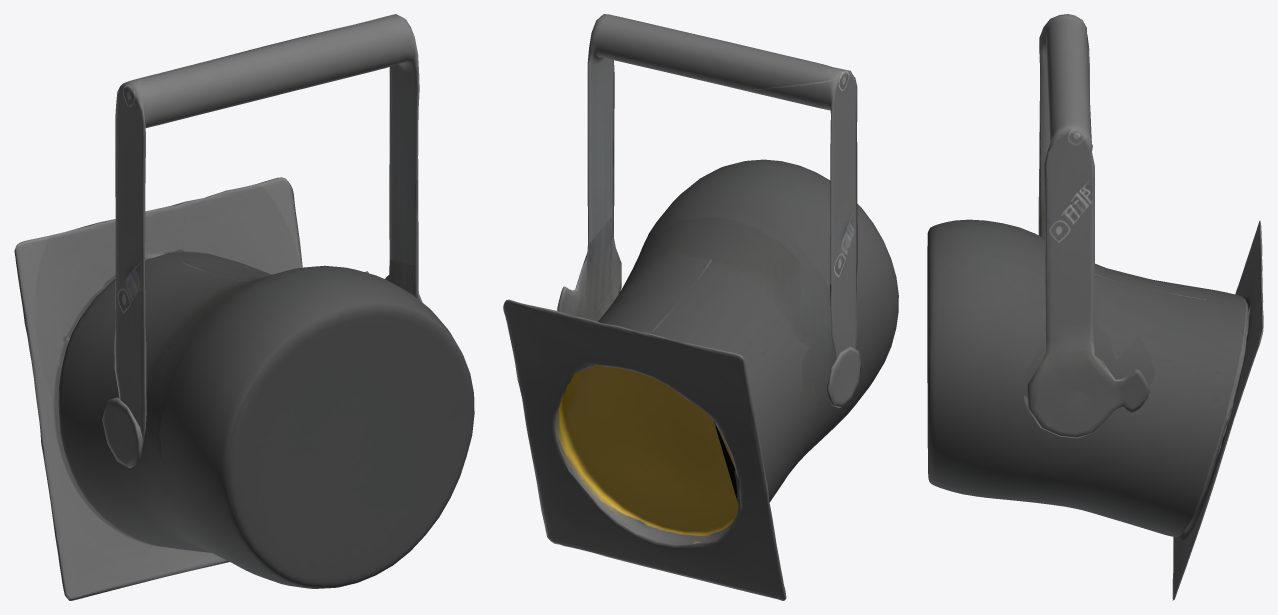
3 renders of one model, left to right at view 1: azimuth 30°, elevation 25°; view 2: azimuth 150°, elevation 25°; view 3: azimuth 270°, elevation 25°, orthographic. The views are drawn at different scales.
Parts seen in each view (by area): view 1: tripo_node_4c1e0001-5a11-42cc-aca8-b74a2e9122af; view 2: tripo_node_4c1e0001-5a11-42cc-aca8-b74a2e9122af; view 3: tripo_node_4c1e0001-5a11-42cc-aca8-b74a2e9122af.
Boxes of the visible parts, box(x1,y1,x2,y2) form: tripo_node_4c1e0001-5a11-42cc-aca8-b74a2e9122af: box(14, 14, 474, 600); tripo_node_4c1e0001-5a11-42cc-aca8-b74a2e9122af: box(503, 14, 898, 600); tripo_node_4c1e0001-5a11-42cc-aca8-b74a2e9122af: box(927, 14, 1263, 600).
Bounding box in the file's own units: 0.5312 × 0.9985 × 0.6371.
1 material, 1 textured.
